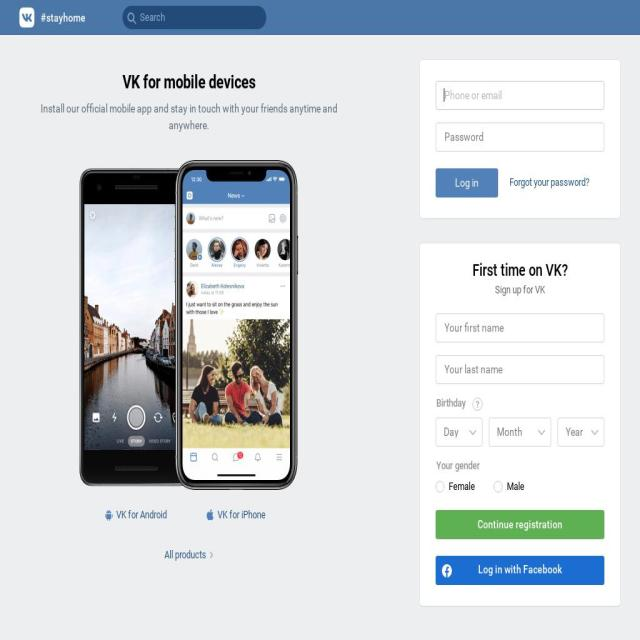button: (174, 160, 298, 528), (79, 160, 194, 528), (436, 510, 604, 539), (19, 0, 122, 35), (436, 168, 498, 198), (164, 548, 214, 561)
field: (436, 122, 604, 152), (436, 81, 604, 110), (436, 355, 604, 384), (436, 314, 604, 342), (122, 6, 266, 29), (492, 422, 534, 440), (438, 422, 466, 440), (560, 422, 588, 440)
heading: (436, 261, 604, 280)
image: (0, 0, 640, 34), (436, 556, 604, 585), (20, 8, 34, 28)
link: (510, 176, 590, 188)
text: (20, 100, 358, 133), (20, 72, 358, 93), (436, 280, 604, 313), (436, 459, 604, 472), (96, 502, 177, 528), (197, 502, 276, 528), (139, 11, 272, 24), (436, 480, 494, 493), (494, 480, 543, 493), (40, 11, 86, 24), (436, 397, 466, 409)
